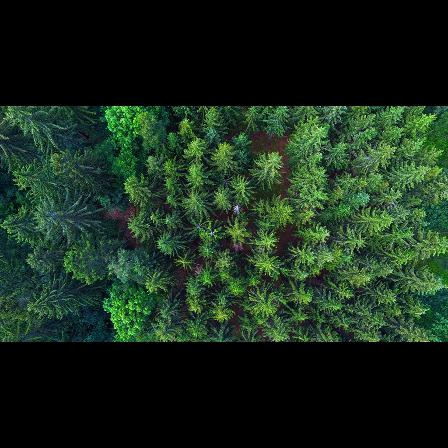Dead: (226, 202, 247, 219)
Sick: (190, 219, 206, 237)
